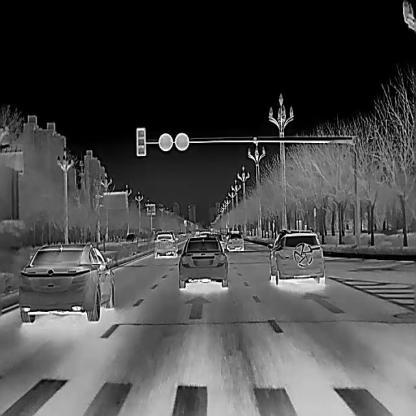car: (18, 242, 115, 322), (268, 230, 324, 284), (175, 236, 229, 288), (154, 230, 178, 257), (224, 229, 244, 250), (206, 232, 224, 250), (125, 233, 136, 241)
